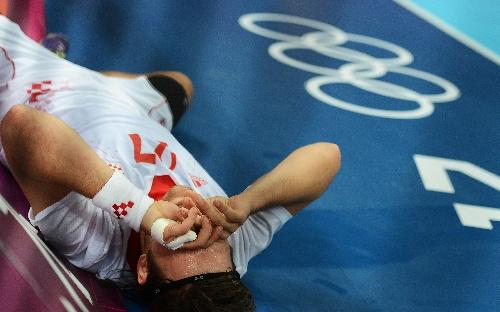down: (1, 12, 346, 311)
